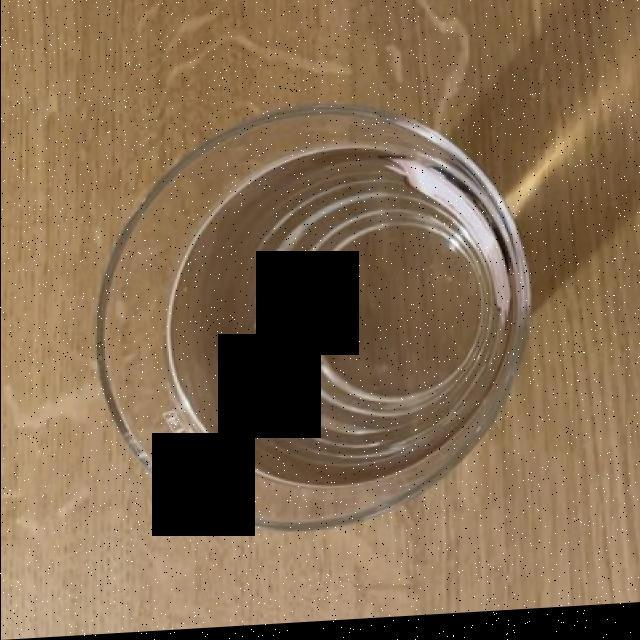water: (180, 146, 512, 512)
